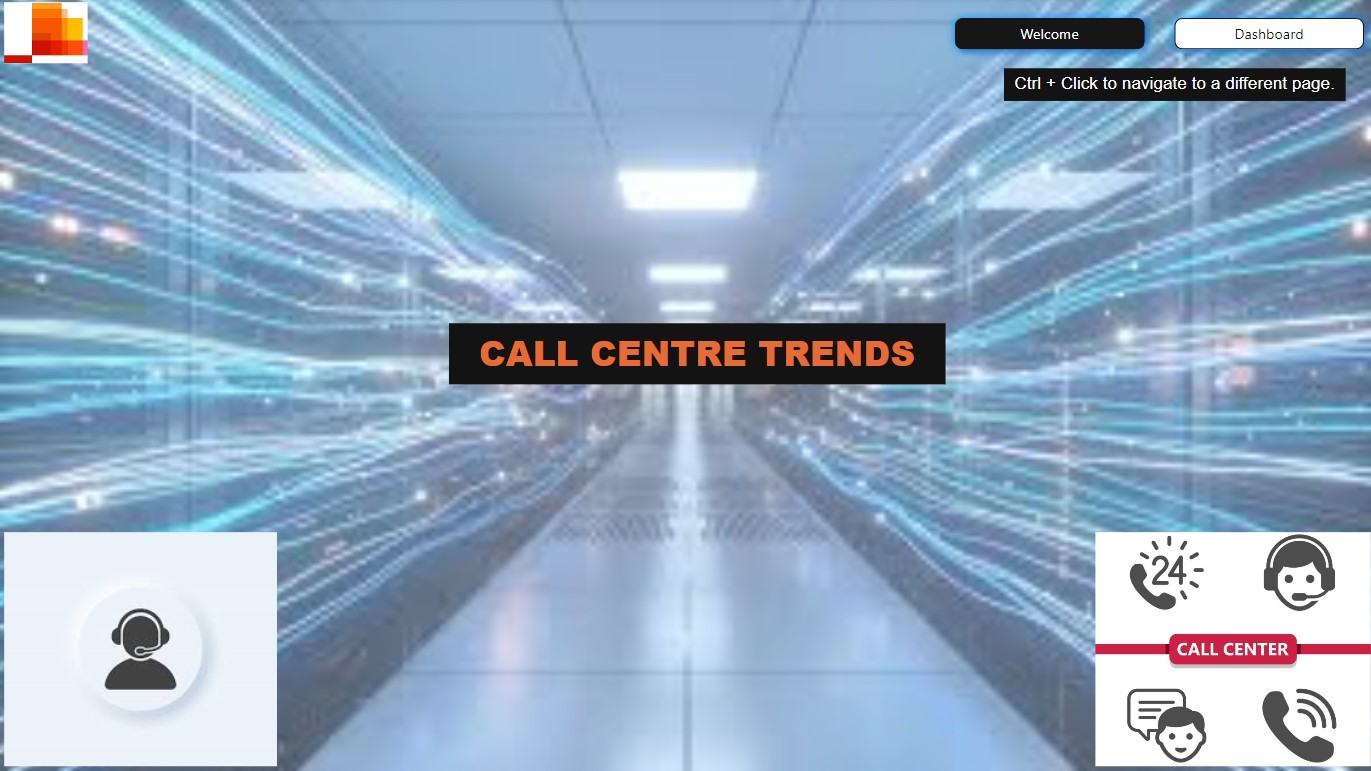

Layout of this report page (visuals, bound fields, positions):
{"tool":"powerbi","page":{"name":"Welcome","canvas":[1280,720],"ordinal":0},"visuals":[{"type":"image","box":[0,0,87.1,66.2],"z":0},{"type":"image","box":[1014.4,492.7,266.1,227.7],"z":1},{"type":"textbox","box":[418.3,303.3,461.3,56.9],"z":2},{"type":"pageNavigator","box":[879.6,10.5,399.7,47.6],"z":3},{"type":"image","box":[0,492.7,263.8,227.7],"z":4},{"type":"textbox","box":[934.2,66.2,317.2,30.2],"z":5}]}

Visuals, with their boxes in screenshot pixels (x1, y1, x2, y2), scaled from the page's 1280x720 canvas onto the 1371x771 screenshot:
image: bbox=(0, 0, 93, 71)
image: bbox=(1087, 528, 1370, 770)
textbox: bbox=(448, 325, 942, 386)
pageNavigator: bbox=(942, 11, 1370, 62)
image: bbox=(0, 528, 283, 770)
textbox: bbox=(1001, 71, 1340, 103)
